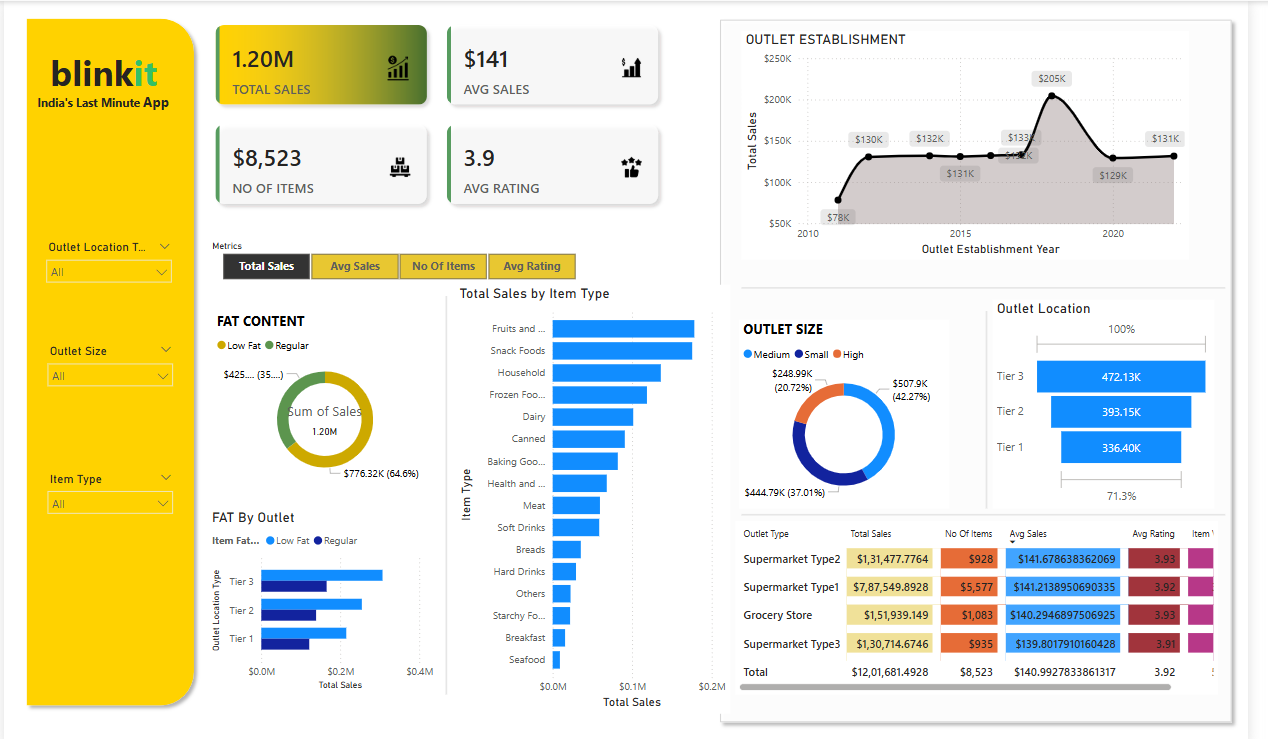

This screenshot's page, from the dashboard's own definition file:
{"tool":"powerbi","page":{"name":"BLINKIT DASH","canvas":[1500,900],"ordinal":0},"visuals":[{"type":"shape","box":[18.1,12.1,220.2,847.5],"z":0},{"type":"textbox","box":[40.2,50.9,159.5,69.7],"z":1000},{"type":"textbox","box":[25.5,105.9,187.7,44.2],"z":2000},{"type":"cardVisual","fields":{"Data":["Sum(BlinkIT Grocery Data.Sales)","BlinkIT Grocery Data.Avg Sales","BlinkIT Grocery Data.No Of Items","BlinkIT Grocery Data.Avg Rating"]},"box":[238.6,12.1,569.7,250.7],"z":3000},{"type":"shape","box":[855.1,13.6,634.9,865.6],"z":4000},{"type":"donutChart","title":"FAT CONTENT","fields":{"Y":["BlinkIT Grocery Data.Total Sales"],"Category":["BlinkIT Grocery Data.Item Fat Content"]},"box":[251.8,374,271.4,212.6],"z":5000},{"type":"slicer","fields":{"Values":["Metrics.Metrics"]},"box":[238.3,283.5,475,58.8],"z":6000},{"type":"cardVisual","fields":{"Data":["Sum(BlinkIT Grocery Data.Sales)"]},"box":[294.1,449.4,185.5,111.6],"z":7000},{"type":"clusteredBarChart","title":"FAT By Outlet ","fields":{"Y":["BlinkIT Grocery Data.Total Sales"],"Category":["BlinkIT Grocery Data.Outlet Location Type"],"Series":["BlinkIT Grocery Data.Item Fat Content"]},"box":[245.8,612.3,277.5,224.7],"z":8000},{"type":"shape","box":[523.3,355.9,21.1,481.1],"z":9000},{"type":"barChart","fields":{"Y":["BlinkIT Grocery Data.Total Sales"],"Category":["BlinkIT Grocery Data.Item Type"]},"box":[544.4,342.3,331.8,517.3],"z":10000},{"type":"lineChart","title":"OUTLET ESTABLISHMENT","fields":{"Category":["BlinkIT Grocery Data.Outlet Establishment Year"],"Y":["BlinkIT Grocery Data.Total Sales"]},"box":[889.7,36.2,539.9,276],"z":11000},{"type":"shape","box":[889.7,336.3,583.6,19.6],"z":12000},{"type":"donutChart","title":"OUTLET SIZE","fields":{"Y":["BlinkIT Grocery Data.Total Sales"],"Category":["BlinkIT Grocery Data.Outlet Size"]},"box":[886.7,384.6,253.4,227.7],"z":13000},{"type":"shape","box":[1177.8,374,15.1,238.3],"z":14000},{"type":"funnel","title":" Outlet Location ","fields":{"Y":["Sum(BlinkIT Grocery Data.Sales)"],"Category":["BlinkIT Grocery Data.Outlet Location Type"]},"box":[1192.9,360.4,266.9,251.8],"z":15000},{"type":"shape","box":[889.7,612.3,583.6,15.1],"z":16000},{"type":"pivotTable","fields":{"Rows":["BlinkIT Grocery Data.Outlet Type"],"Values":["BlinkIT Grocery Data.Total Sales","BlinkIT Grocery Data.No Of Items","BlinkIT Grocery Data.Avg Sales","BlinkIT Grocery Data.Avg Rating","Sum(BlinkIT Grocery Data.Item Visibility)"]},"box":[882.2,627.3,582.1,209.6],"z":17000},{"type":"slicer","fields":{"Values":["BlinkIT Grocery Data.Outlet Location Type"]},"box":[40.7,283.5,171.9,90.5],"z":18000},{"type":"slicer","fields":{"Values":["BlinkIT Grocery Data.Outlet Size"]},"box":[42.2,408.7,171.9,90.5],"z":19000},{"type":"slicer","fields":{"Values":["BlinkIT Grocery Data.Item Type"]},"box":[42.2,562.5,171.9,70.9],"z":20000}]}

Visuals, with their boxes in screenshot pixels (x1, y1, x2, y2), scaled from the page's 1500x900 canvas onto the 1268x739 screenshot:
shape: crop(15, 10, 201, 706)
textbox: crop(34, 42, 169, 99)
textbox: crop(22, 87, 180, 123)
cardVisual - Sum(BlinkIT Grocery Data.Sales) x BlinkIT Grocery Data.Avg Sales: crop(202, 10, 683, 216)
shape: crop(723, 11, 1260, 722)
"FAT CONTENT" donutChart: crop(213, 307, 442, 482)
slicer - Metrics.Metrics: crop(201, 233, 603, 281)
cardVisual - Sum(BlinkIT Grocery Data.Sales): crop(249, 369, 405, 461)
"FAT By Outlet " clusteredBarChart: crop(208, 503, 442, 687)
shape: crop(442, 292, 460, 687)
barChart - BlinkIT Grocery Data.Total Sales x BlinkIT Grocery Data.Item Type: crop(460, 281, 741, 706)
"OUTLET ESTABLISHMENT" lineChart: crop(752, 30, 1208, 256)
shape: crop(752, 276, 1245, 292)
"OUTLET SIZE" donutChart: crop(750, 316, 964, 503)
shape: crop(996, 307, 1008, 503)
" Outlet Location " funnel: crop(1008, 296, 1234, 503)
shape: crop(752, 503, 1245, 515)
pivotTable - BlinkIT Grocery Data.Outlet Type x BlinkIT Grocery Data.Total Sales: crop(746, 515, 1238, 687)
slicer - BlinkIT Grocery Data.Outlet Location Type: crop(34, 233, 180, 307)
slicer - BlinkIT Grocery Data.Outlet Size: crop(36, 336, 181, 410)
slicer - BlinkIT Grocery Data.Item Type: crop(36, 462, 181, 520)
